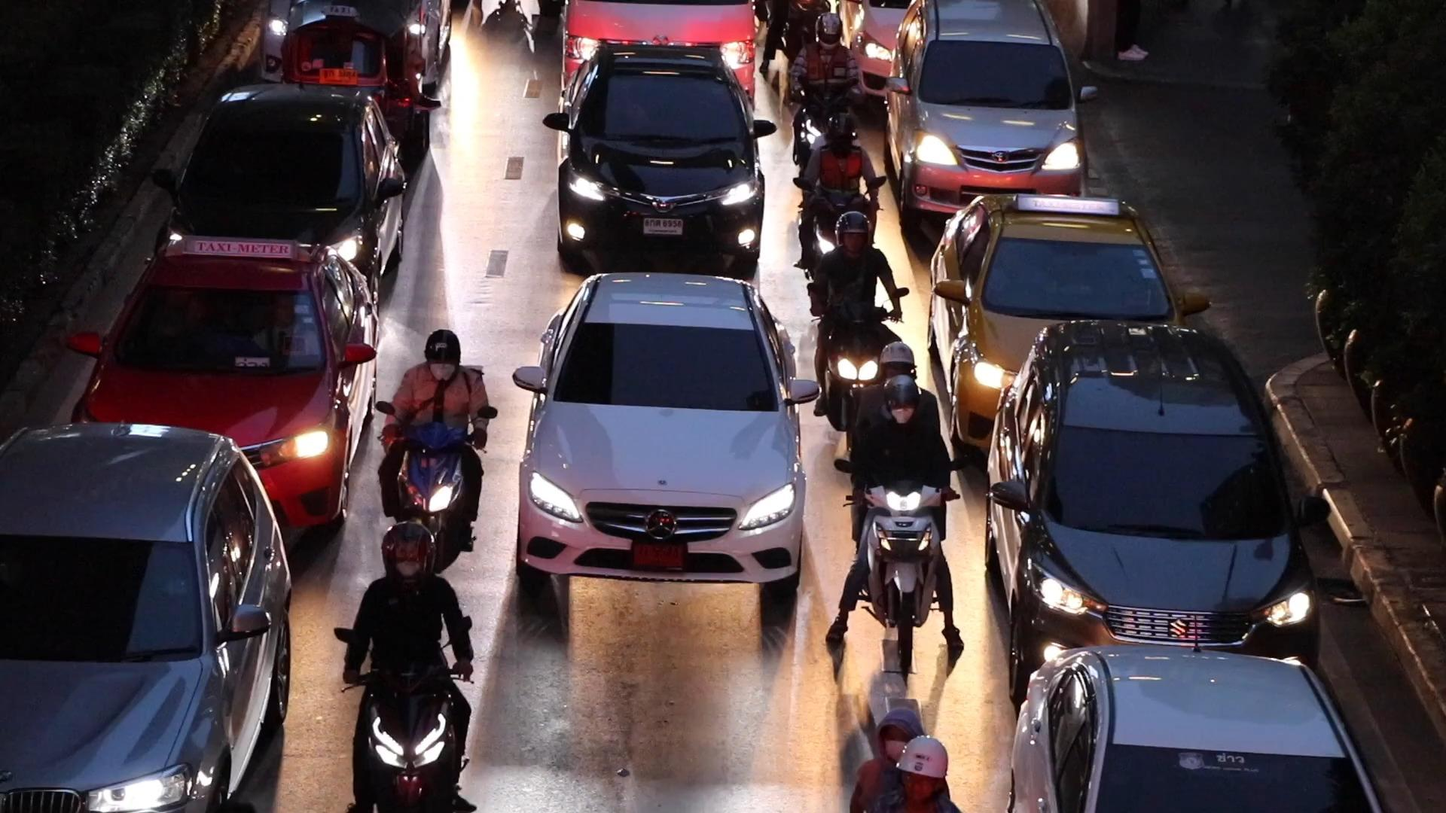driver: (825, 341, 965, 670), (333, 521, 475, 813), (374, 329, 497, 575), (806, 210, 909, 452), (793, 111, 887, 282), (787, 12, 860, 179)
helmet: (896, 735, 948, 809), (381, 521, 436, 586), (424, 329, 461, 384), (883, 375, 919, 424), (880, 342, 917, 384), (835, 211, 870, 255), (824, 111, 858, 153), (815, 12, 843, 52)
no-helmet: (876, 707, 926, 765)
